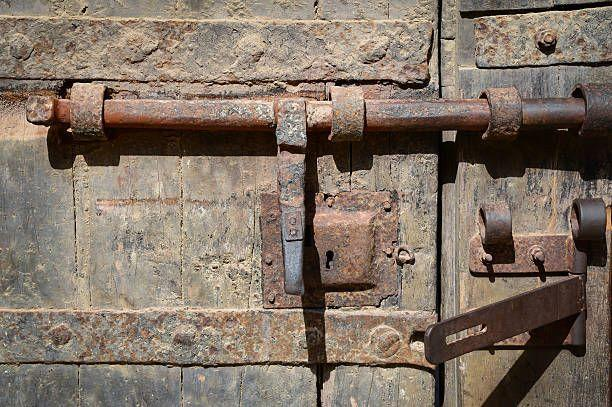metal: (22, 77, 612, 299), (419, 197, 610, 375)
